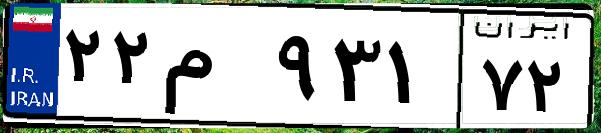1: (385, 28, 445, 110)
2: (57, 26, 110, 100), (525, 38, 570, 115), (110, 28, 158, 98)
3: (330, 28, 385, 110)
7: (475, 38, 525, 113)
9: (270, 28, 330, 110)
م: (158, 20, 270, 120)
